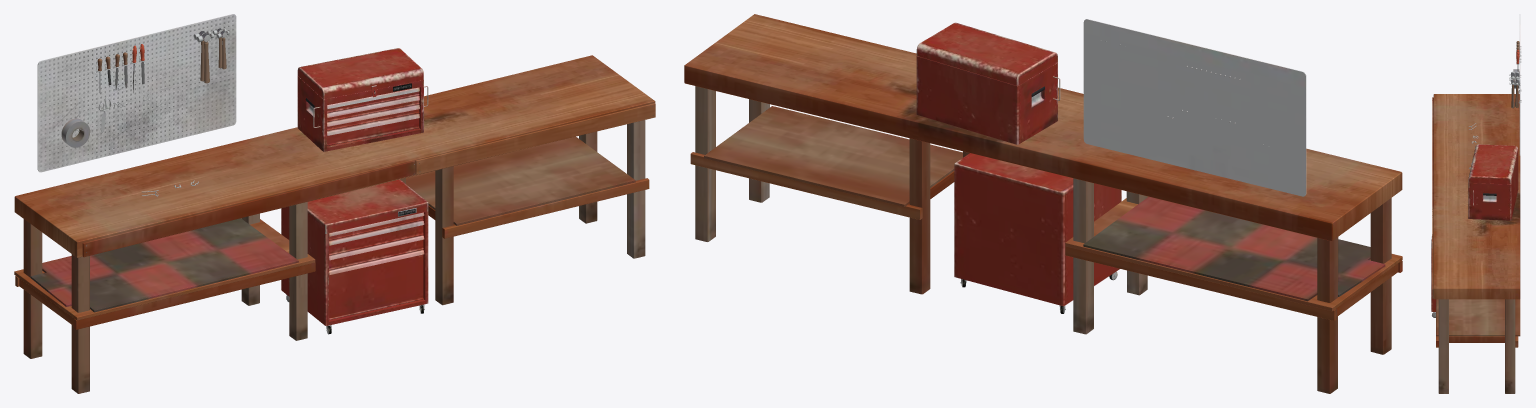
The model's file is workbench.glb.
3 views of the same model, side by side, from view 1: azimuth 30°, elevation 25°; view 2: azimuth 150°, elevation 25°; view 3: azimuth 270°, elevation 25° (orthographic). The views are drawn at different scales.
Visible parts, largest first — view 1: Object_4, Object_3, Object_6, Object_5; view 2: Object_4, Object_3, Object_6, Object_5; view 3: Object_4, Object_6, Object_5, Object_3.
Part boxes in pixels (box(x1,y1,x2,y2)): Object_4: box(14, 29, 655, 330); Object_3: box(15, 14, 653, 334); Object_6: box(23, 76, 645, 393); Object_5: box(96, 37, 428, 325); Object_4: box(684, 14, 1402, 311); Object_3: box(690, 19, 1402, 320); Object_6: box(695, 62, 1391, 393); Object_5: box(916, 22, 1268, 306); Object_4: box(1431, 51, 1520, 336); Object_6: box(1433, 183, 1515, 393); Object_5: box(1431, 41, 1521, 311); Object_3: box(1432, 14, 1520, 347).
Bounding box in the file's own units: 372 × 175 × 72.79.
1 material, 1 textured.
